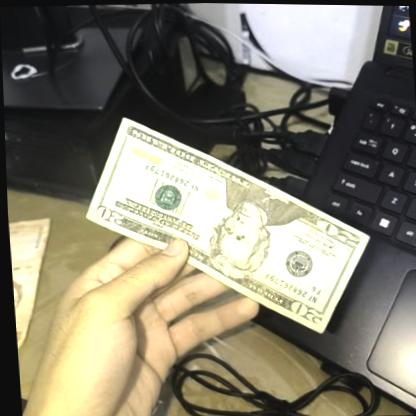twenty-front: (78, 105, 375, 342)
